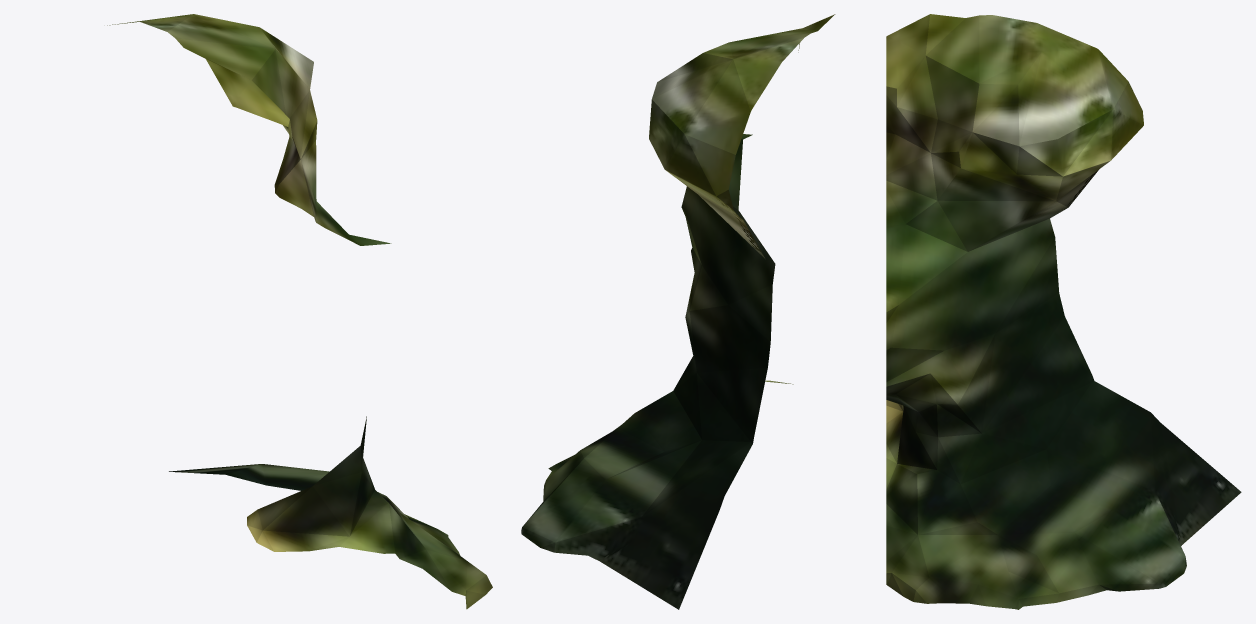
3 views of the same model, side by side, from view 1: azimuth 30°, elevation 25°; view 2: azimuth 150°, elevation 25°; view 3: azimuth 270°, elevation 25° (orthographic). The views are drawn at different scales.
Size of the model in its own units: 0.5703 by 1.08 by 0.7272.
1 material, 1 textured.
